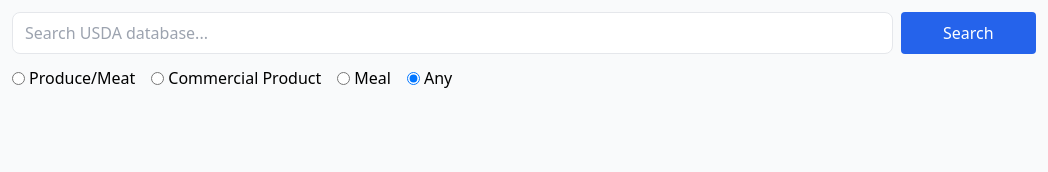
Test: IngredientSearch › commercial product filter › shows brand input when Commercial Product is selected
Click the radio button labelled "Commercial Product" at (158,78), box [151, 72, 164, 84]
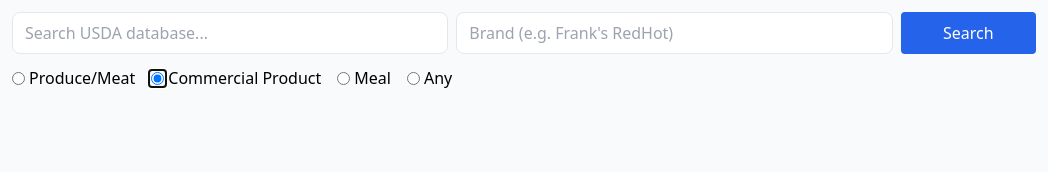
Check: the field with placeholder "Brand (e.g. Frank's RedHot)" is shown, box [456, 12, 893, 54]
